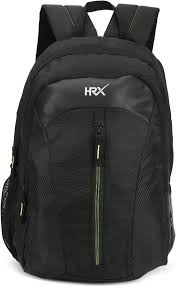backpack: (0, 0, 175, 283)
